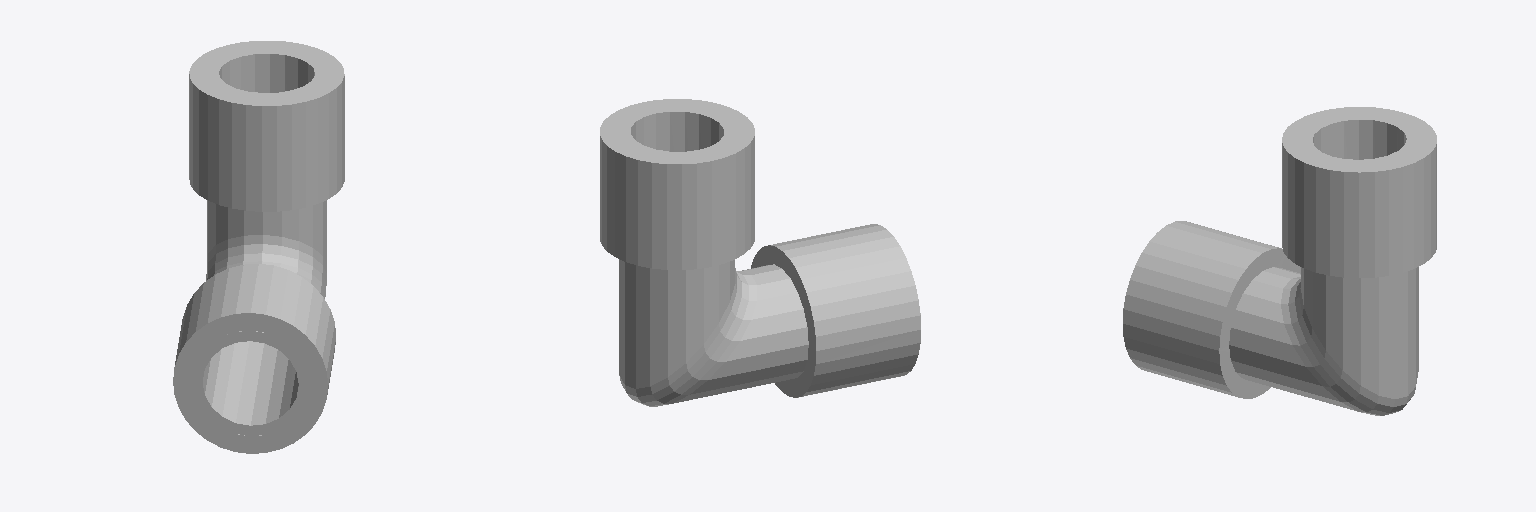
File: striebrurka sd.obj
3 renders of one model, left to right at view 1: azimuth 30°, elevation 25°; view 2: azimuth 150°, elevation 25°; view 3: azimuth 270°, elevation 25°, orthographic.
Parts seen in each view (by area): view 1: rurka.010_Mesh.011; view 2: rurka.010_Mesh.011; view 3: rurka.010_Mesh.011.
Boxes of the visible parts, x1=… form: rurka.010_Mesh.011: x1=173, y1=41, x2=344, y2=453; rurka.010_Mesh.011: x1=600, y1=99, x2=920, y2=406; rurka.010_Mesh.011: x1=1123, y1=107, x2=1436, y2=415.
Size of the model in its own units: 0.2788 by 0.318 by 0.3217.